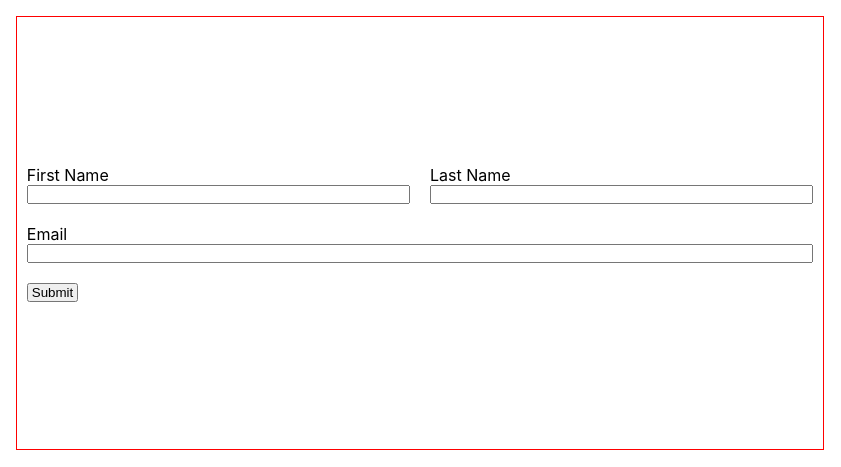
shows only 1 error when 1 input is incorrect and the others are correct › loads second name error only
The width and height of the screenshot is (841, 467).
Type "Wei-Tong" into the field below "First Name" at (219, 195), box x1=27 y1=185 x2=410 y2=204
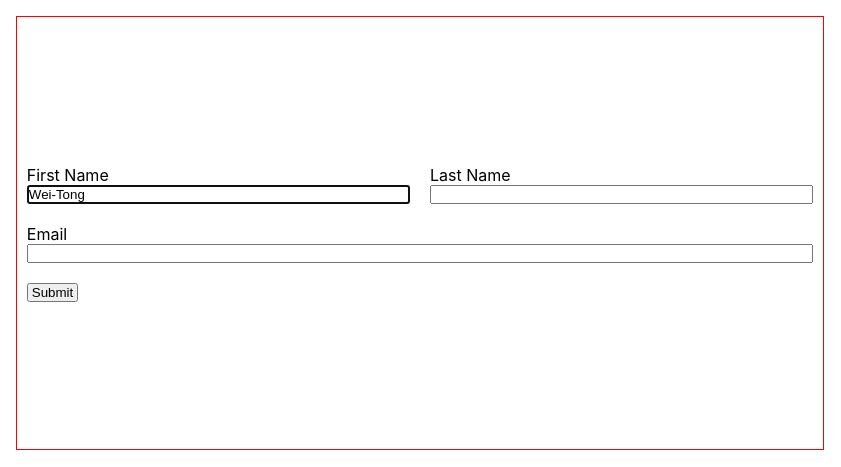
Type "w" into the field below "Last Name" at (622, 195), box x1=430 y1=185 x2=813 y2=204
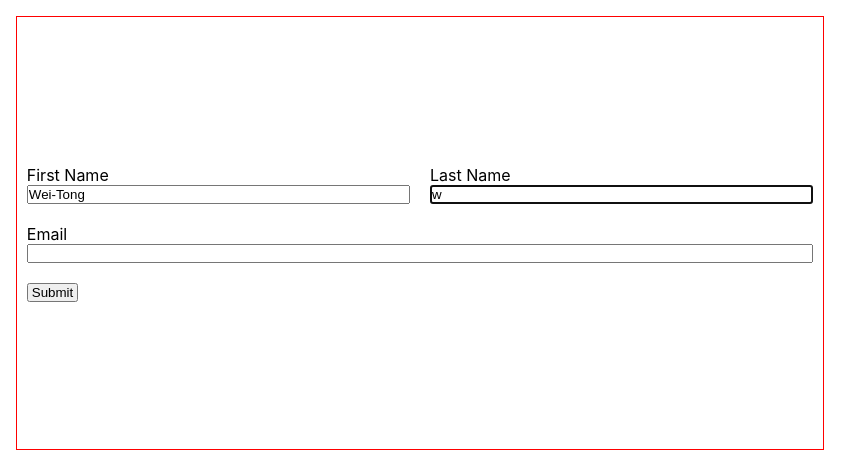
Type "weitongblue@gmail.com" into the field below "Email" at (420, 254), box x1=27 y1=244 x2=813 y2=263
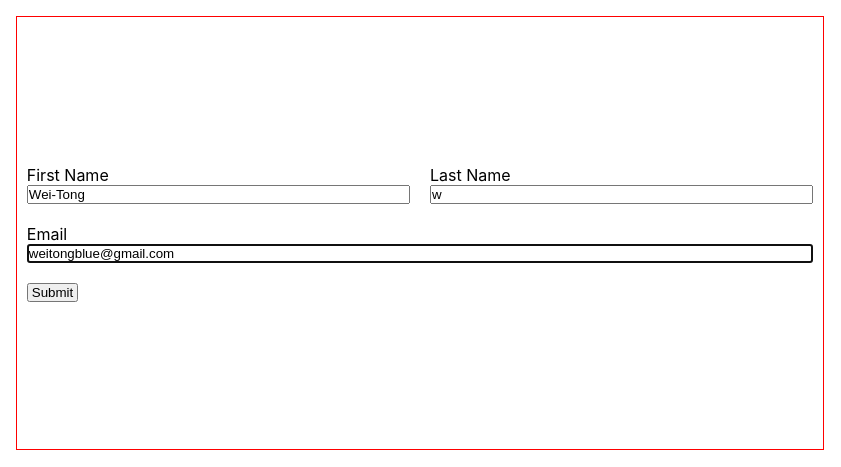
Click the button "Submit" at (53, 293), box x1=27 y1=283 x2=79 y2=302
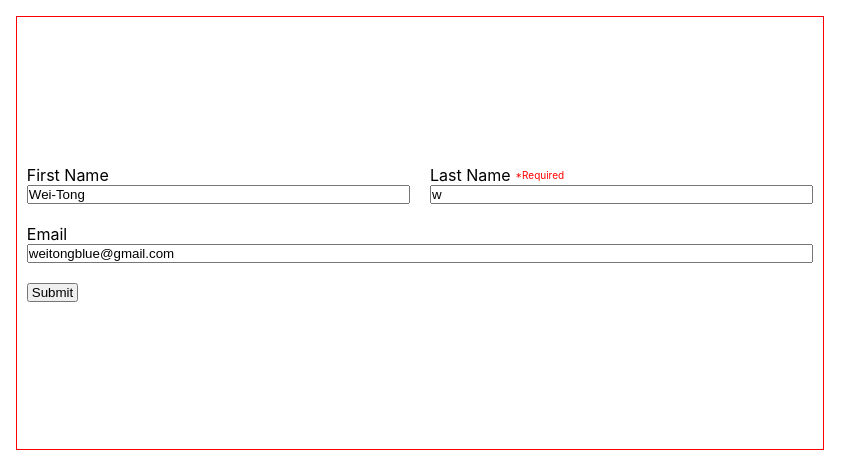
Result: the text "*Required" is shown at x1=516 y1=168 x2=564 y2=180
